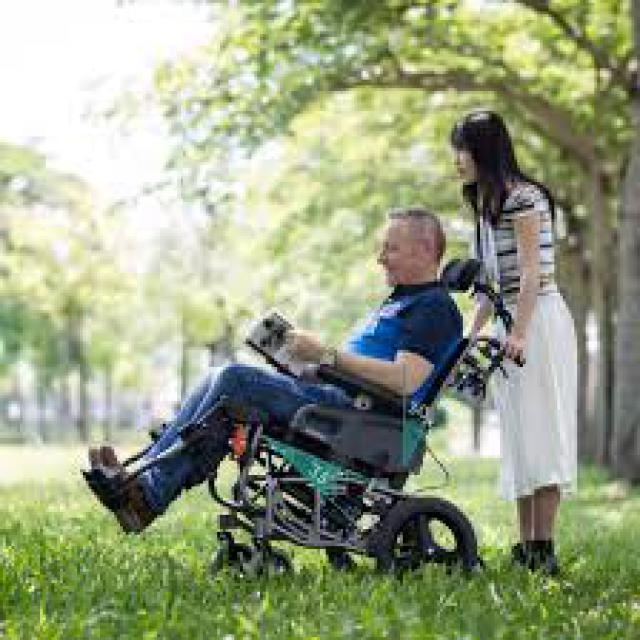wheelchairs: (175, 282, 540, 580)
